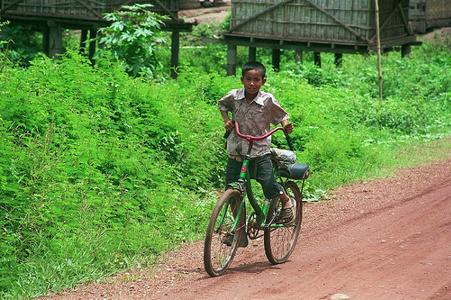person: (220, 64, 295, 250)
